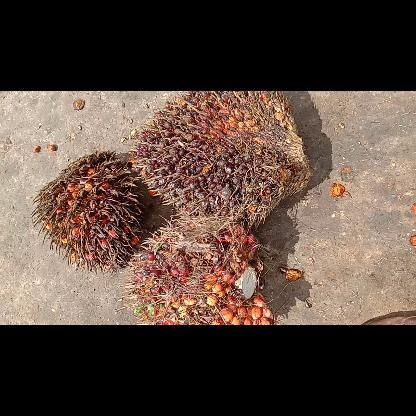Kurang masak: (135, 91, 311, 227)
TBS masak: (127, 220, 275, 324)
Terlalu masak: (35, 150, 140, 270)
